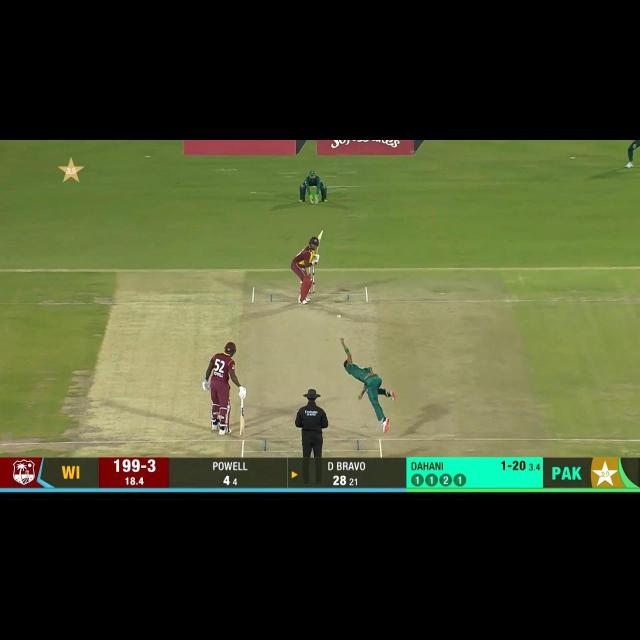bat: (314, 229, 324, 254), (240, 408, 247, 436)
toe: (317, 228, 324, 238), (240, 429, 246, 436)
